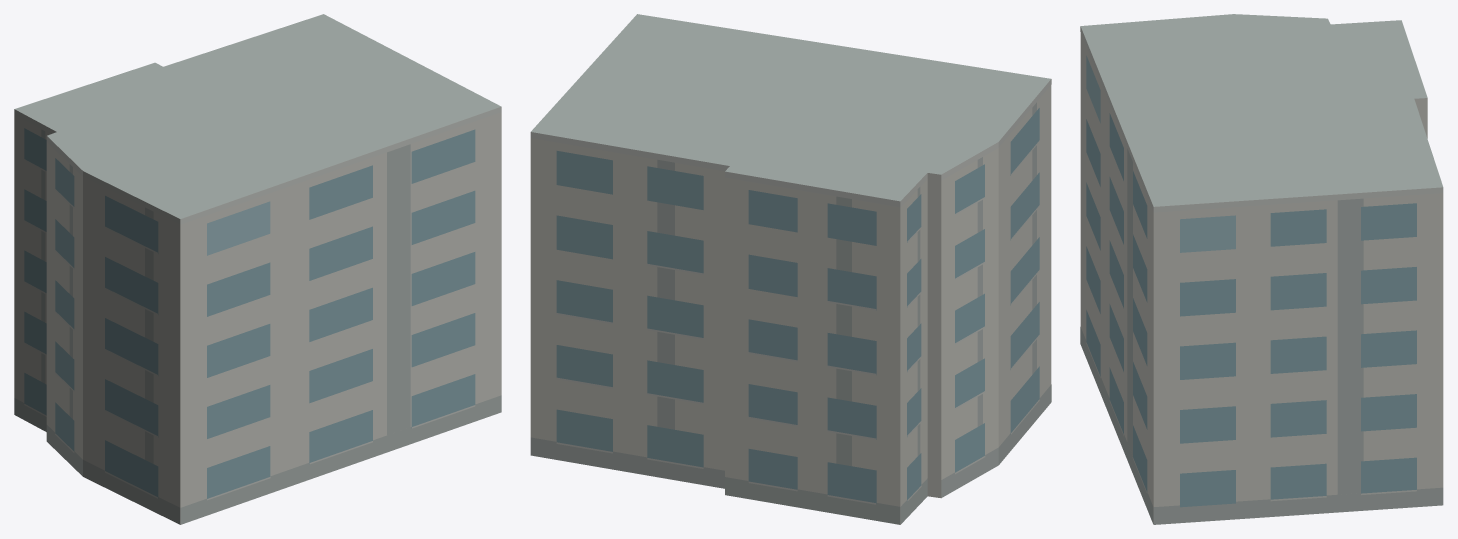
Rendered from survey-upis-32527433.glb.
The picture shows the model from 3 angles, left to right: view 1: azimuth 30°, elevation 25°; view 2: azimuth 150°, elevation 25°; view 3: azimuth 270°, elevation 25°; orthographic projection. The views are drawn at different scales.
Visible parts, largest first — view 1: survey-upis-32527433.tmp; view 2: survey-upis-32527433.tmp; view 3: survey-upis-32527433.tmp.
Part boxes in pixels (bbox=[...]): survey-upis-32527433.tmp: bbox=[14, 14, 501, 524]; survey-upis-32527433.tmp: bbox=[530, 14, 1051, 524]; survey-upis-32527433.tmp: bbox=[1080, 14, 1443, 524].
Bounding box in the file's own units: 17.11 × 13.15 × 13.61.
